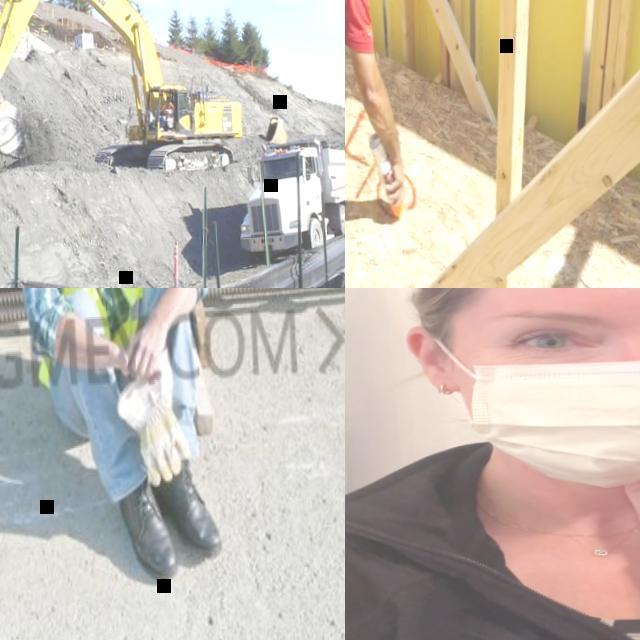vest: (29, 288, 154, 391), (162, 104, 172, 118)
